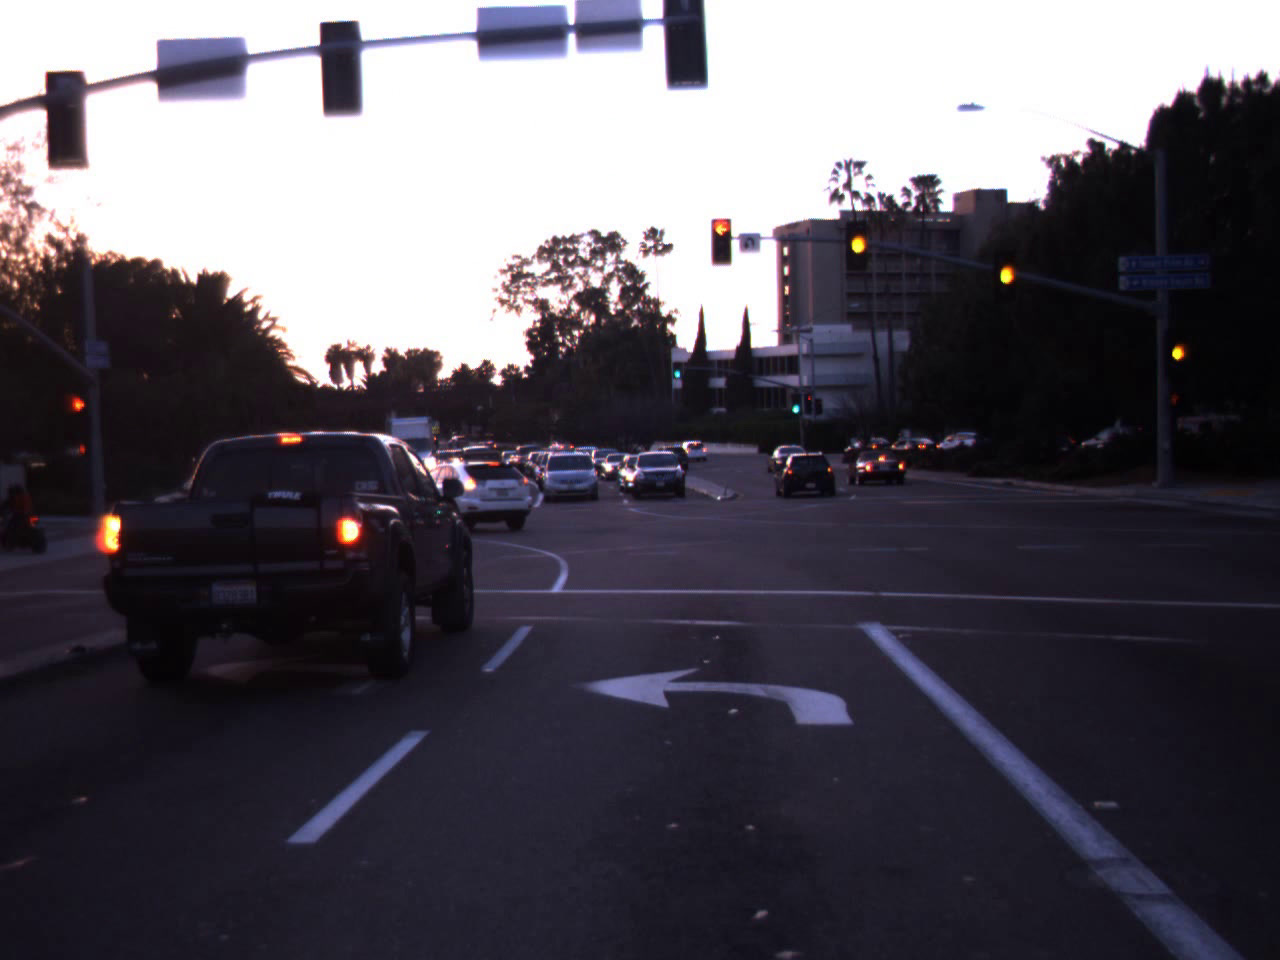go: (672, 354, 684, 379), (790, 392, 802, 412)
stop: (694, 214, 748, 263), (65, 393, 94, 442)
warning: (839, 210, 878, 273), (991, 238, 1024, 305), (1164, 326, 1191, 375)
